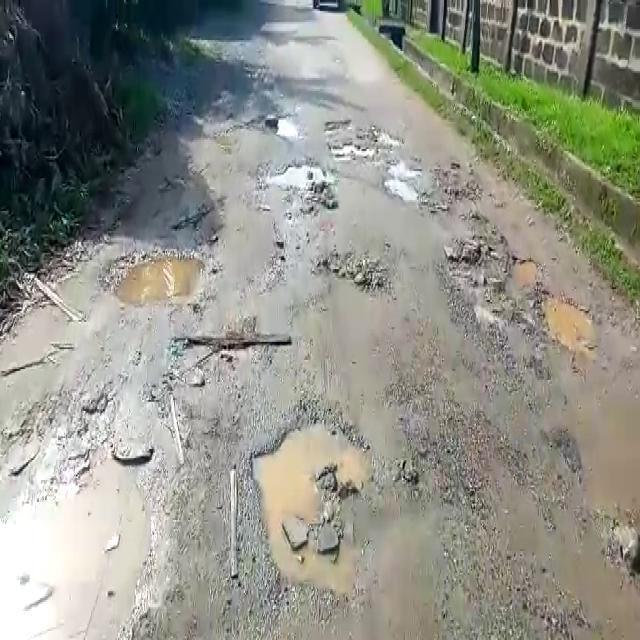pothole: (0, 465, 157, 640), (249, 408, 371, 598), (446, 208, 539, 301), (98, 247, 212, 306), (402, 447, 480, 506), (262, 159, 342, 208), (541, 289, 598, 356), (382, 161, 434, 207), (319, 131, 396, 157)
